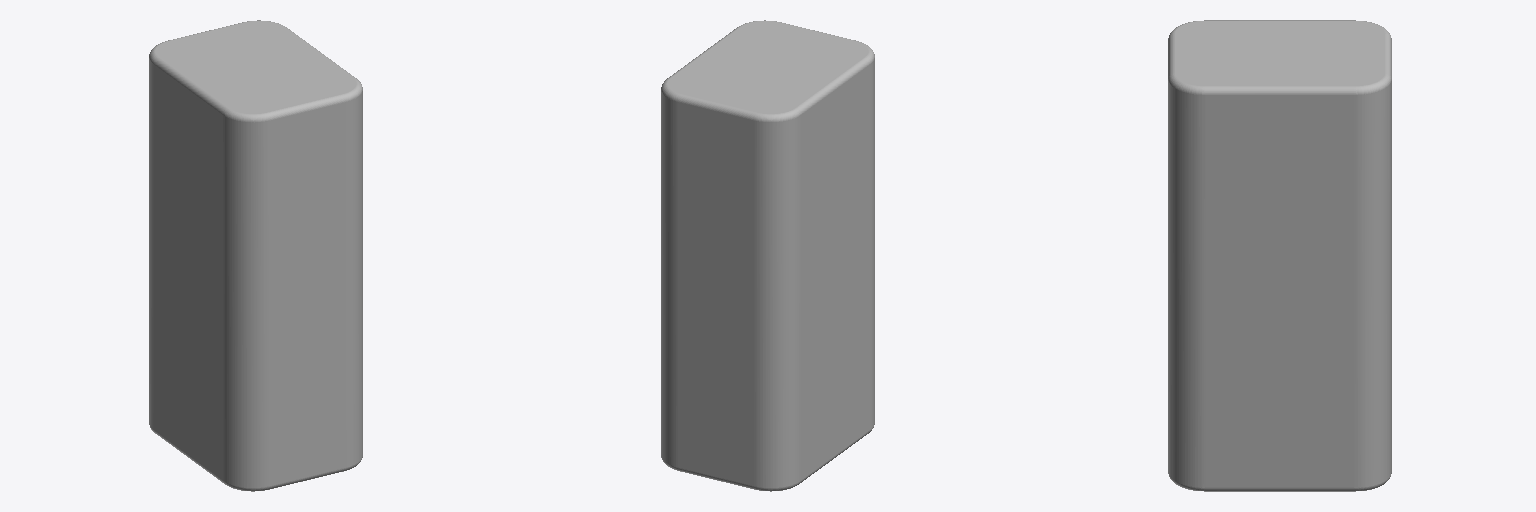
The robot description file, URDF, robot "root":
<robot name="root">
  <link name="link_block_convex_piece_0">
    <inertial>
      <origin xyz="0 0 0" rpy="0 0 0"/>
      <mass value="3.72E-01"/>
      <inertia ixx="7.37E-04" ixy="-2.06E-16" ixz="6.45E-16" iyy="6.75E-04" iyz="-4.65E-10" izz="2.21E-04"/>
    </inertial>
    <visual>
      <origin xyz="0 0 0" rpy="0 0 0"/>
      <geometry>
        <mesh filename="block_convex_piece_0.obj" scale="1.0000E+00 1.0000E+00 1.0000E+00"/>
      </geometry>
      <material name="">
        <color rgba="7.50E-01 7.50E-01 7.50E-01 1"/>
      </material>
    </visual>
    <collision>
      <origin xyz="0 0 0" rpy="0 0 0"/>
      <geometry>
        <mesh filename="block_convex_piece_0.obj" scale="1.0000E+00 1.0000E+00 1.0000E+00"/>
      </geometry>
    </collision>
  </link>
</robot>

--- Facts derived from the render (not from the file) ---
3 views of the same robot in one strip: view 1: azimuth 30°, elevation 25°; view 2: azimuth 150°, elevation 25°; view 3: azimuth 270°, elevation 25° (orthographic).
Robot: root — 1 links, 0 joints (none); root link link_block_convex_piece_0; default pose: all joints at 0.
Links seen in each view (by area): view 1: link_block_convex_piece_0; view 2: link_block_convex_piece_0; view 3: link_block_convex_piece_0.
Link boxes in pixels (<box>): link_block_convex_piece_0: <box>149,20,362,491</box>; link_block_convex_piece_0: <box>661,20,874,491</box>; link_block_convex_piece_0: <box>1168,20,1391,491</box>.
Size in the robot's own frame: 0.052 by 0.0693 by 0.1387 metres.
1 mesh visuals loaded from 1 distinct referenced files (1 OBJ).
